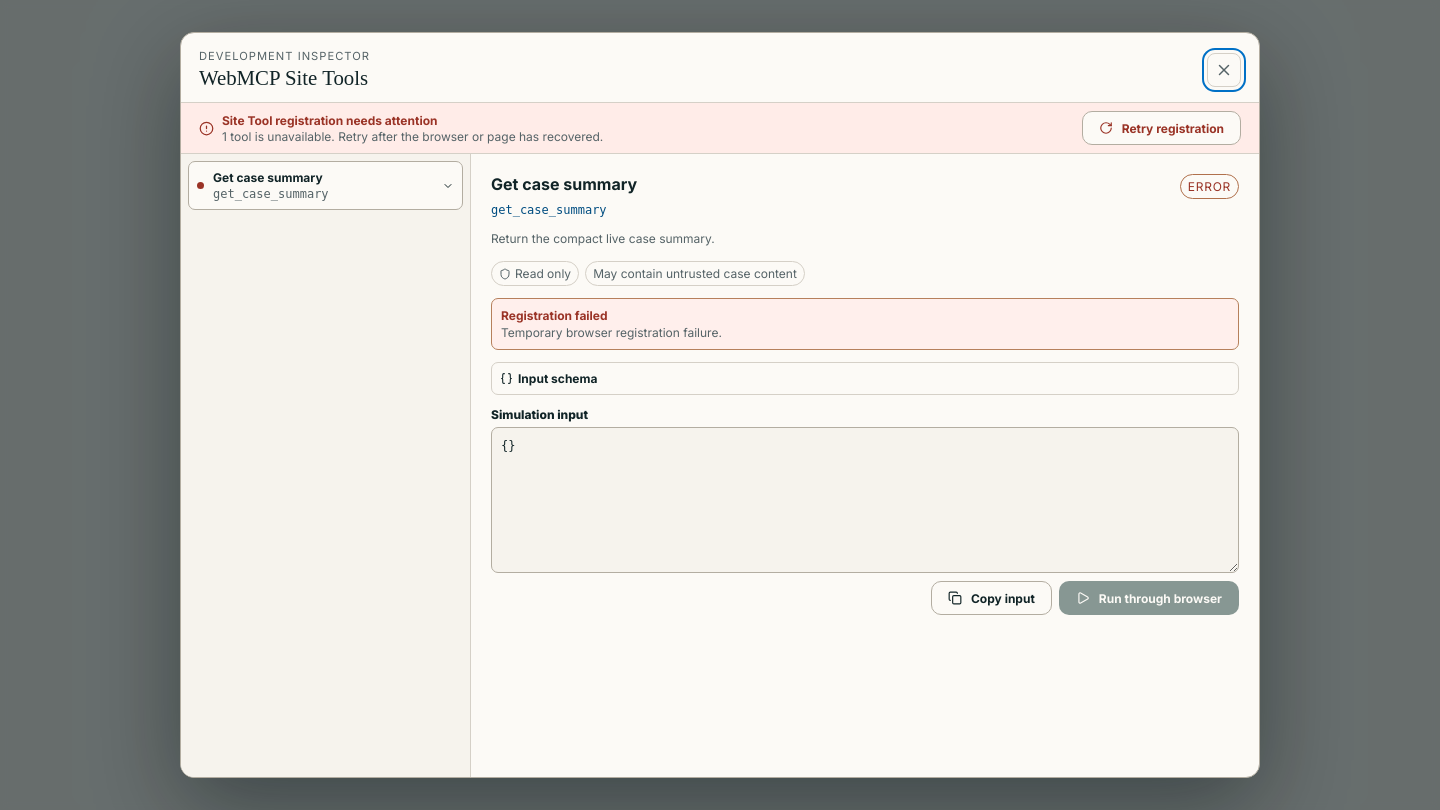
WebMCPDebugPanel › reports clipboard denial instead of claiming the input was copied
Click the button "Copy input" at (991, 598), box 931,581 -> 1052,615
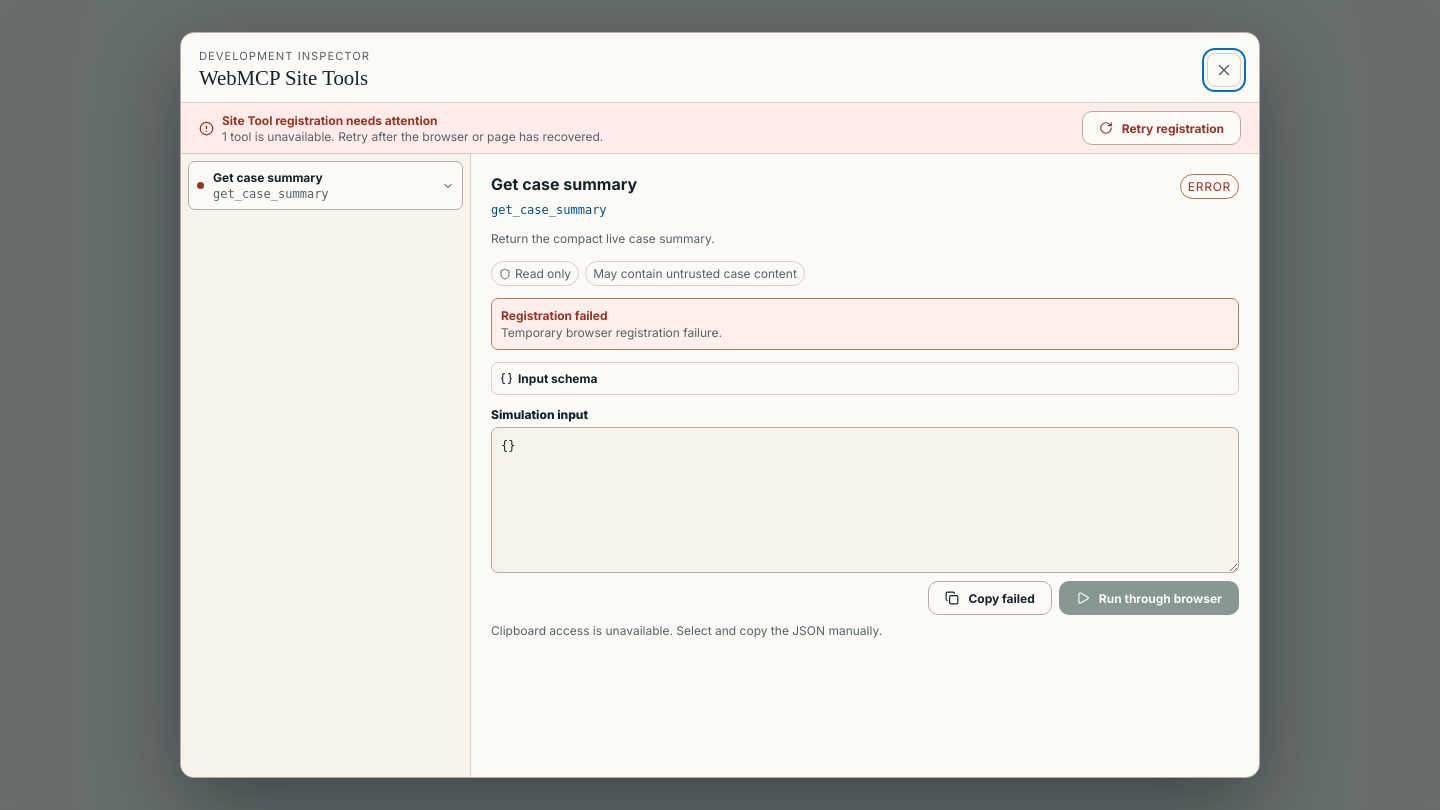
Check: the button "Copy failed" is shown, box 928,581 -> 1052,615
